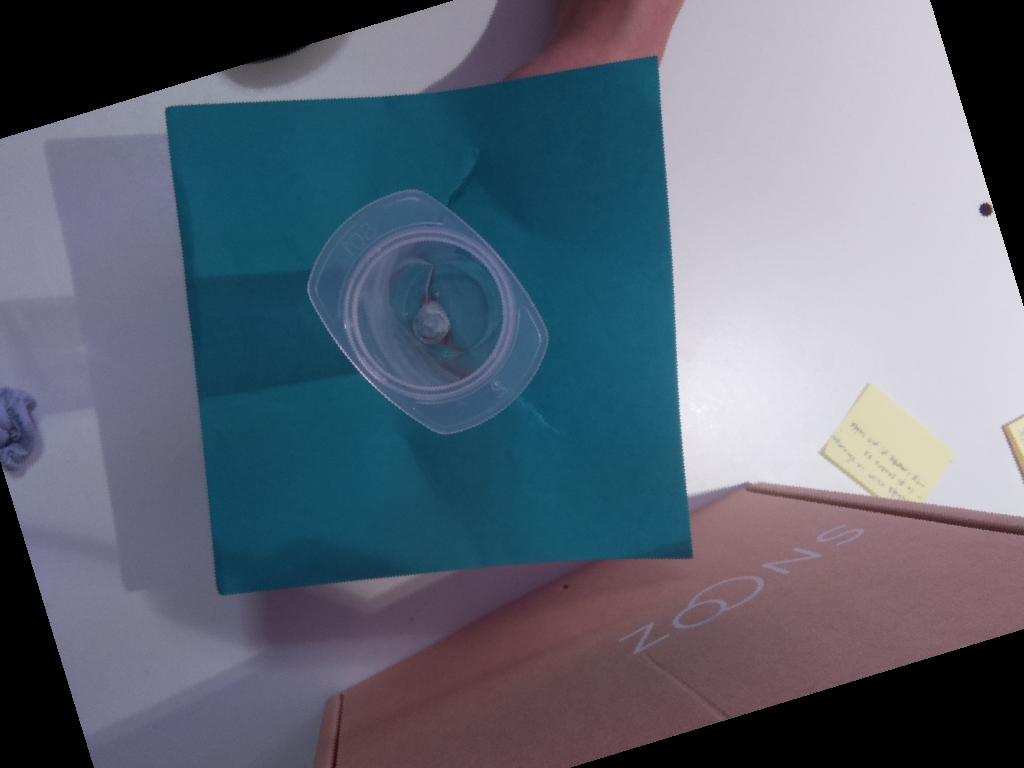clean: (295, 185, 560, 445)
